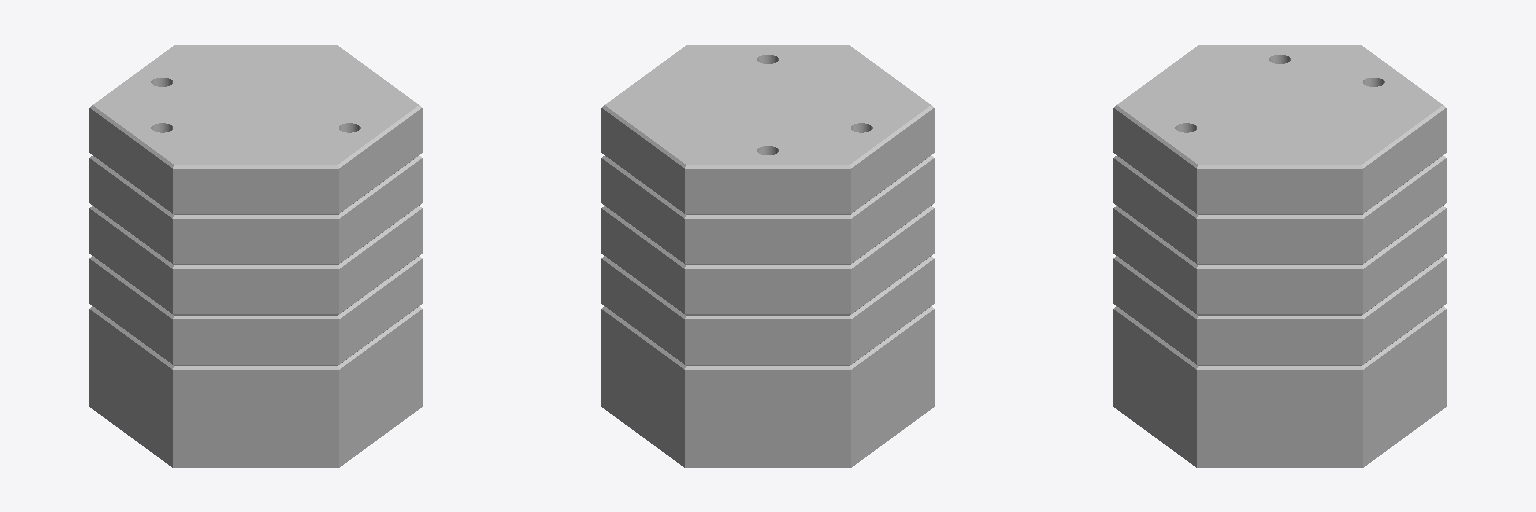
File: lvl5C.obj
The picture shows the model from 3 angles: view 1: azimuth 30°, elevation 25°; view 2: azimuth 150°, elevation 25°; view 3: azimuth 270°, elevation 25°; orthographic projection.
Parts seen in each view (by area): view 1: Lvl5C-3_(Mono-NoMags); view 2: Lvl5C-3_(Mono-NoMags); view 3: Lvl5C-3_(Mono-NoMags).
Part boxes in pixels (x1,y1,x2,y2): Lvl5C-3_(Mono-NoMags): (89, 45, 422, 467); Lvl5C-3_(Mono-NoMags): (601, 45, 934, 467); Lvl5C-3_(Mono-NoMags): (1113, 45, 1446, 467).
Bounding box in the file's own units: 3.13 × 3.62 × 3.62.